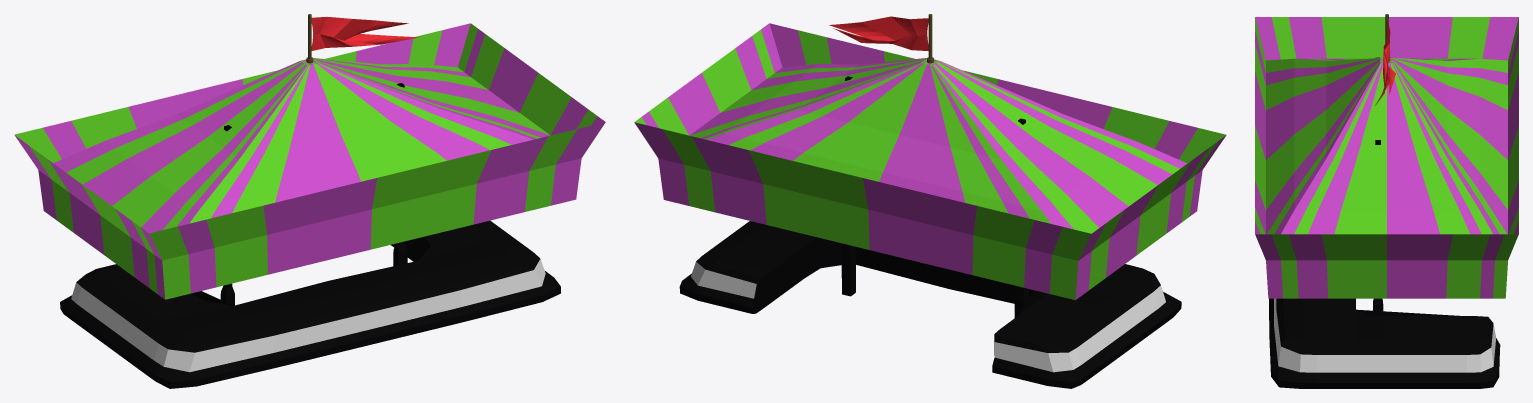
File: tienda3 (morado).glb
3 renders of one model, left to right at view 1: azimuth 30°, elevation 25°; view 2: azimuth 150°, elevation 25°; view 3: azimuth 270°, elevation 25°, orthographic. The views are drawn at different scales.
Parts seen in each view (by area): view 1: Cube, Cube.001, Plane; view 2: Cube, Cube.001, Plane, Cube.002; view 3: Cube, Cube.001, Plane.
Part boxes in pixels (x1,y1,x2,y2): Cube: (14,23,605,299); Cube.001: (60,220,560,388); Plane: (311,16,419,50); Cube: (634,23,1226,300); Cube.001: (679,221,1181,388); Plane: (829,16,928,50); Cube.002: (841,76,856,296); Cube: (1255,17,1518,298); Cube.001: (1269,298,1500,388); Plane: (1375,20,1395,105).
Size of the model in its own units: 20.72 by 13.13 by 10.61.
